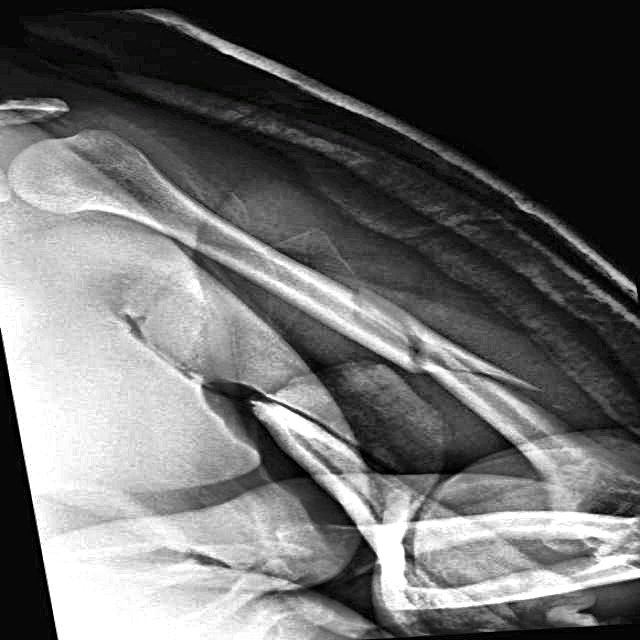Spiral: (314, 276, 548, 398)
